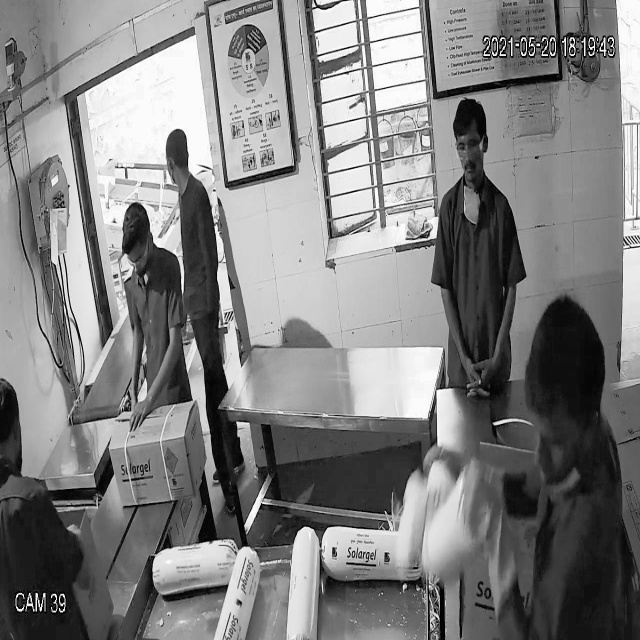Gafas: (454, 132, 488, 161), (124, 245, 151, 274)
